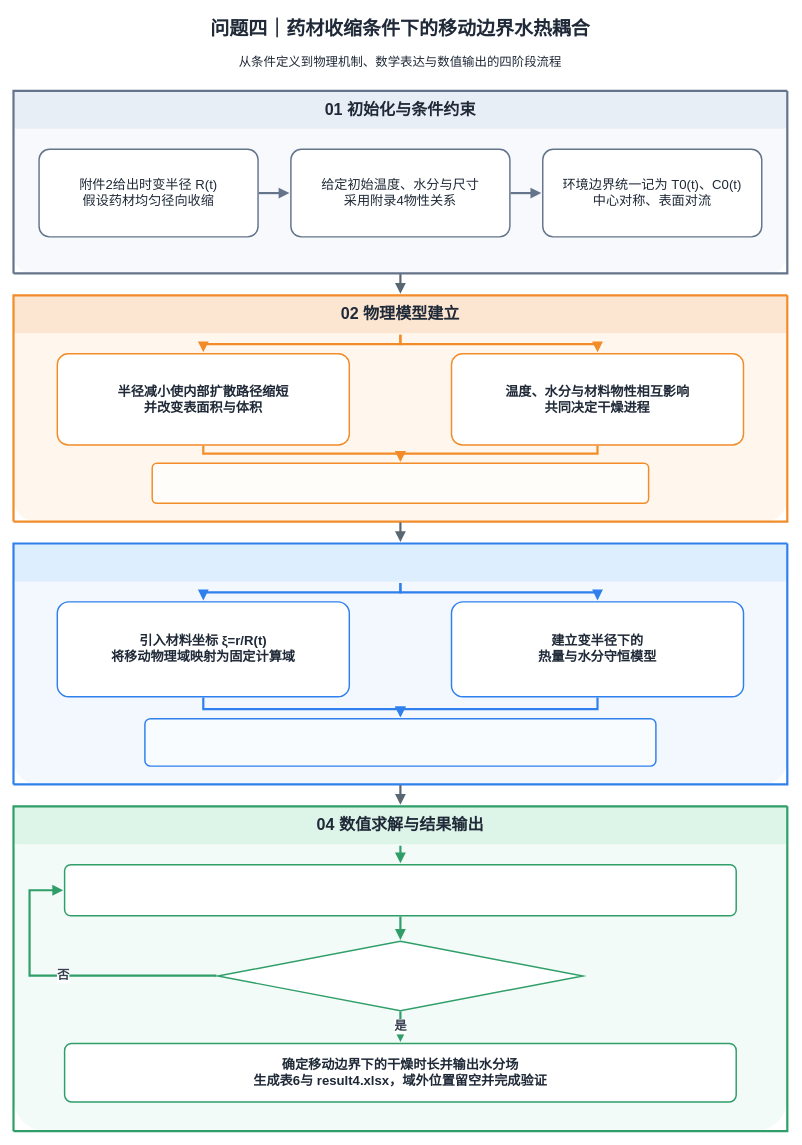
Some shapes in this 802 by 1145 pixel diagram are drawn without their labels. Each missing label, with the box of its shape:
03 数学模型建立: (13, 543, 787, 581)
Cmax < 0.15 kg/kg？: (217, 940, 583, 1011)
收缩几何与变物性耦合形成移动边界传热传质过程: (151, 462, 649, 504)
每步更新半径、物理网格与表面阻力 在当前收缩网格上进行水热耦合求解: (64, 864, 737, 916)
耦合 R(t)、温度场、水分场及表面对流边界: (144, 718, 656, 766)
